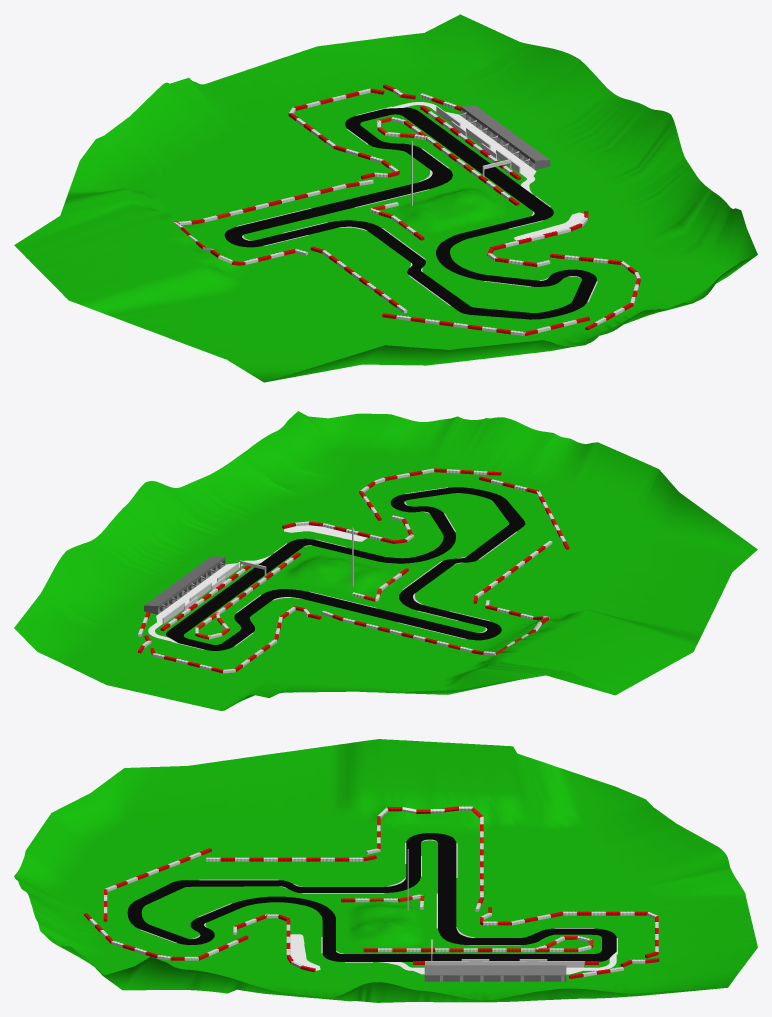
File: circuit.glb
3 views of the same model, one above another, from view 1: azimuth 30°, elevation 25°; view 2: azimuth 150°, elevation 25°; view 3: azimuth 270°, elevation 25° (orthographic). The views are drawn at different scales.
Parts seen in each view (by area): view 1: Grass, track, Pitlane; view 2: Grass, track, Pitlane, Grass.001; view 3: Grass, track, Grass.001, Pitlane.
Part boxes in pixels (x1,y1,x2,y2): Grass: [14, 14, 757, 382]; track: [224, 107, 596, 319]; Pitlane: [386, 102, 536, 194]; Grass: [14, 411, 757, 710]; track: [166, 487, 525, 650]; Pitlane: [148, 555, 271, 642]; Grass.001: [284, 525, 367, 541]; Grass: [14, 739, 757, 1002]; track: [127, 833, 616, 961]; Grass.001: [290, 934, 320, 970]; Pitlane: [378, 952, 616, 974].
Size of the model in its own units: 292 by 31.46 by 327.
